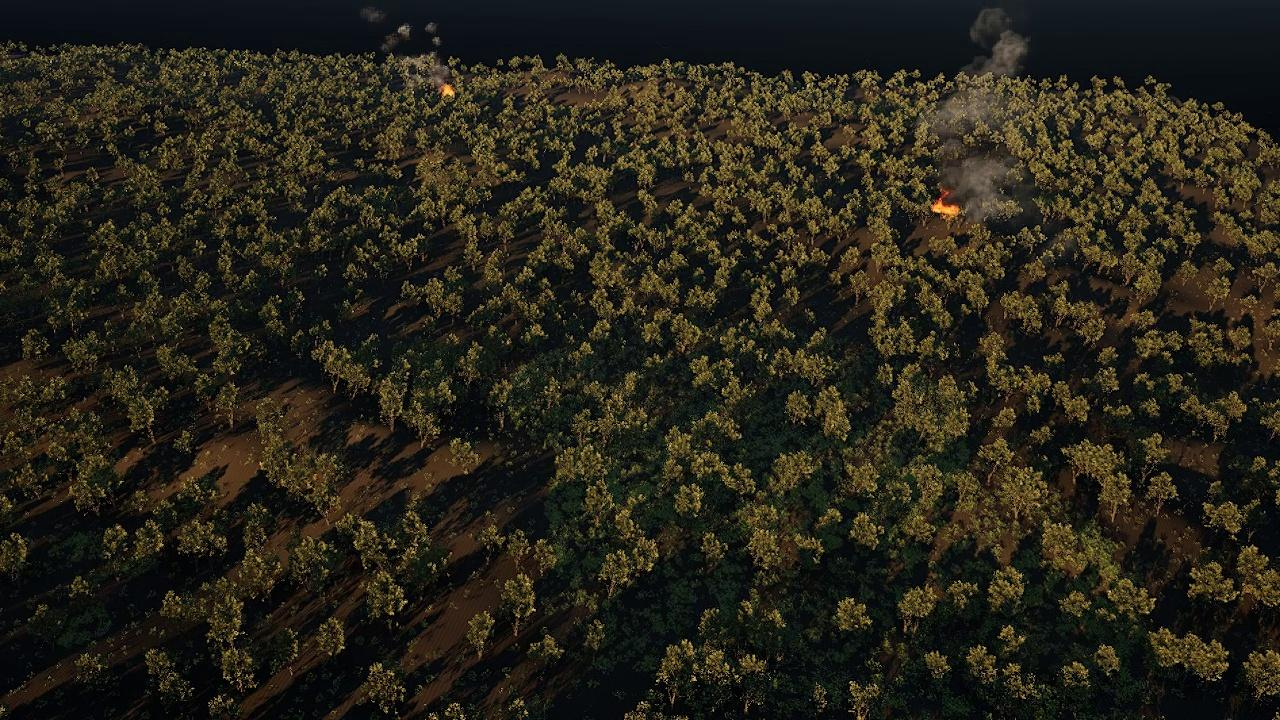fire: (931, 197, 958, 217), (438, 82, 454, 97)
smoke: (927, 81, 1041, 222), (959, 6, 1032, 78), (381, 21, 453, 91), (361, 5, 383, 23)
